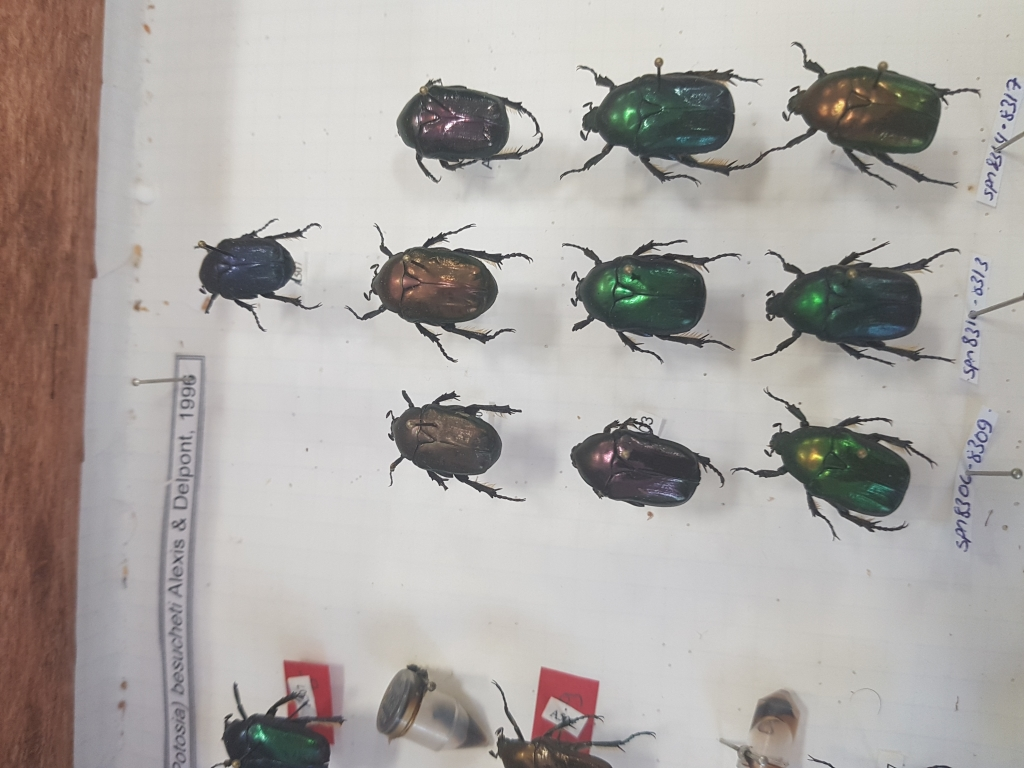Protaetia_besucheti: (761, 30, 986, 220), (734, 386, 949, 548), (748, 224, 963, 384), (555, 48, 746, 207), (328, 215, 538, 354), (546, 225, 741, 373), (371, 377, 541, 523)
